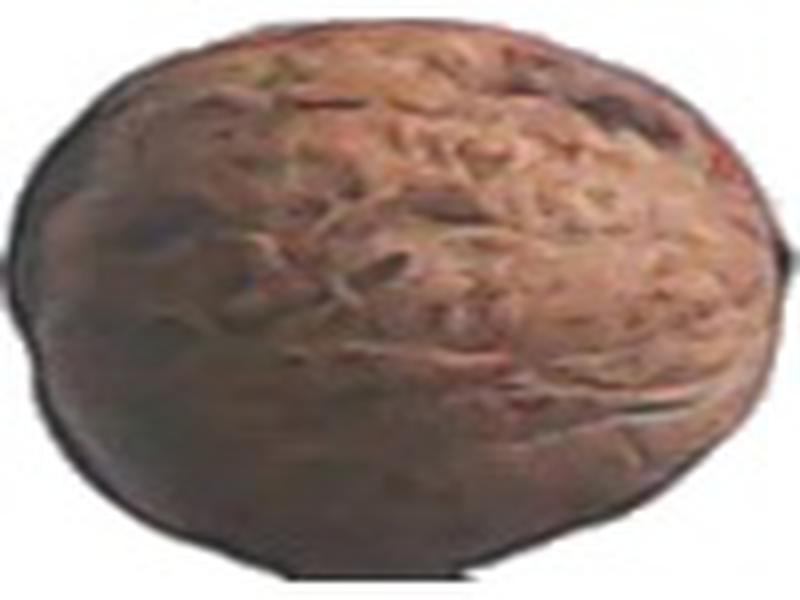walnut: (3, 1, 800, 598)
